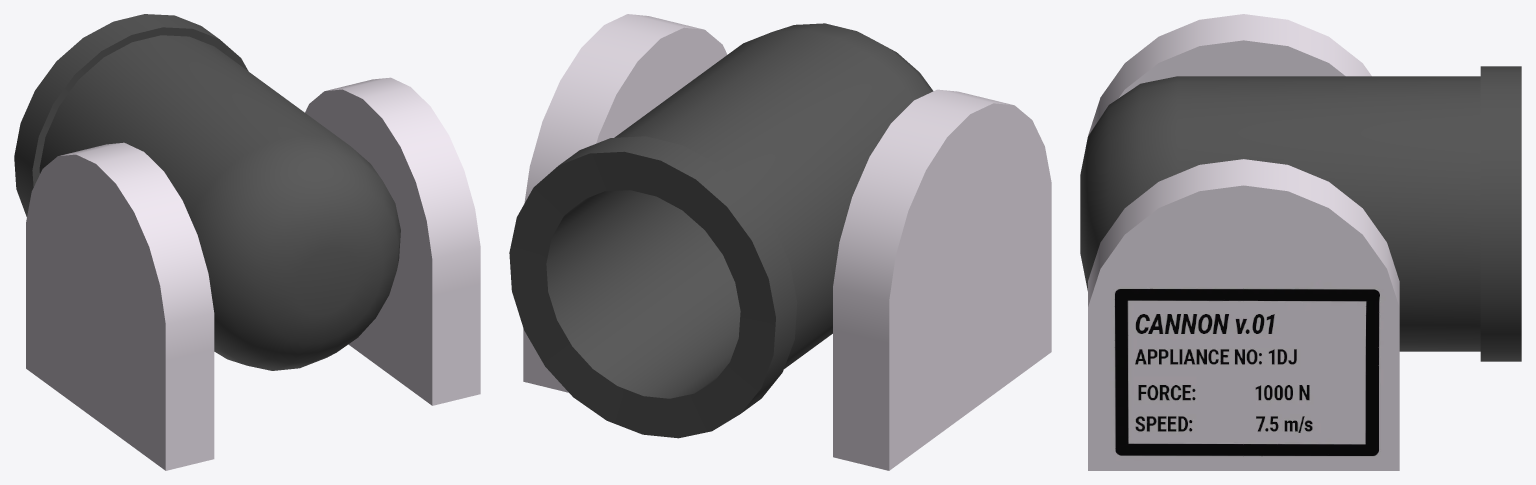
The model's file is Cannon-transformed.glb.
The picture shows the model from 3 angles, left to right: view 1: azimuth 30°, elevation 25°; view 2: azimuth 150°, elevation 25°; view 3: azimuth 270°, elevation 25°; orthographic projection. The views are drawn at different scales.
Parts seen in each view (by area): view 1: Cannon, CannonBarrel; view 2: CannonBarrel, Cannon; view 3: Cannon, CannonBarrel.
Part boxes in pixels (<box>): Cannon: <box>26,77,480,470</box>; CannonBarrel: <box>14,14,400,370</box>; CannonBarrel: <box>509,23,933,438</box>; Cannon: <box>523,14,1051,470</box>; Cannon: <box>1088,14,1399,470</box>; CannonBarrel: <box>1080,66,1521,361</box>.
Bounding box in the file's own units: 1.42 × 1.17 × 1.54.
Materials: 2 (1 with a texture image).
